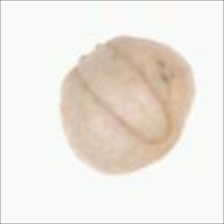L5: (73, 41, 174, 146), (143, 122, 184, 165)
L6: (55, 33, 200, 178)
